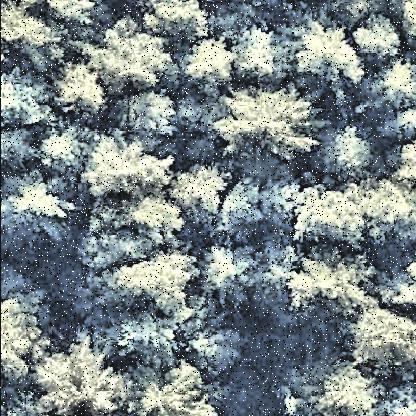tree-top: (215, 80, 316, 168), (285, 238, 377, 329), (79, 199, 191, 273), (103, 245, 206, 318), (41, 338, 129, 416), (79, 133, 173, 201), (92, 19, 175, 96), (286, 178, 370, 253), (2, 176, 78, 253), (297, 23, 374, 98), (2, 282, 51, 392), (119, 358, 211, 416), (214, 168, 285, 238), (109, 87, 181, 151), (317, 124, 381, 194), (109, 320, 193, 372), (353, 303, 416, 372), (170, 161, 234, 225), (230, 23, 294, 87), (2, 6, 62, 70), (137, 1, 218, 47), (181, 34, 243, 94), (315, 364, 385, 416), (2, 68, 62, 128), (350, 10, 410, 62), (201, 237, 248, 303), (60, 62, 113, 115), (33, 128, 88, 179), (366, 176, 416, 232), (185, 322, 234, 378), (377, 61, 416, 109), (383, 261, 416, 309), (388, 1, 416, 45), (10, 132, 38, 174), (385, 388, 416, 416), (392, 103, 416, 139)
